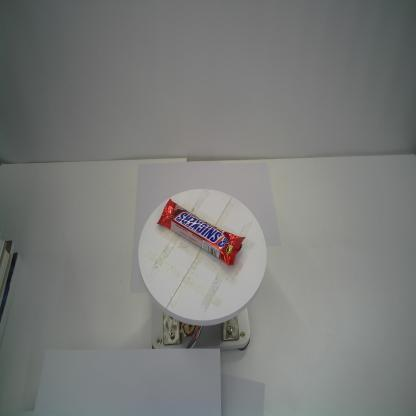Chocolate: (157, 198, 246, 266)
